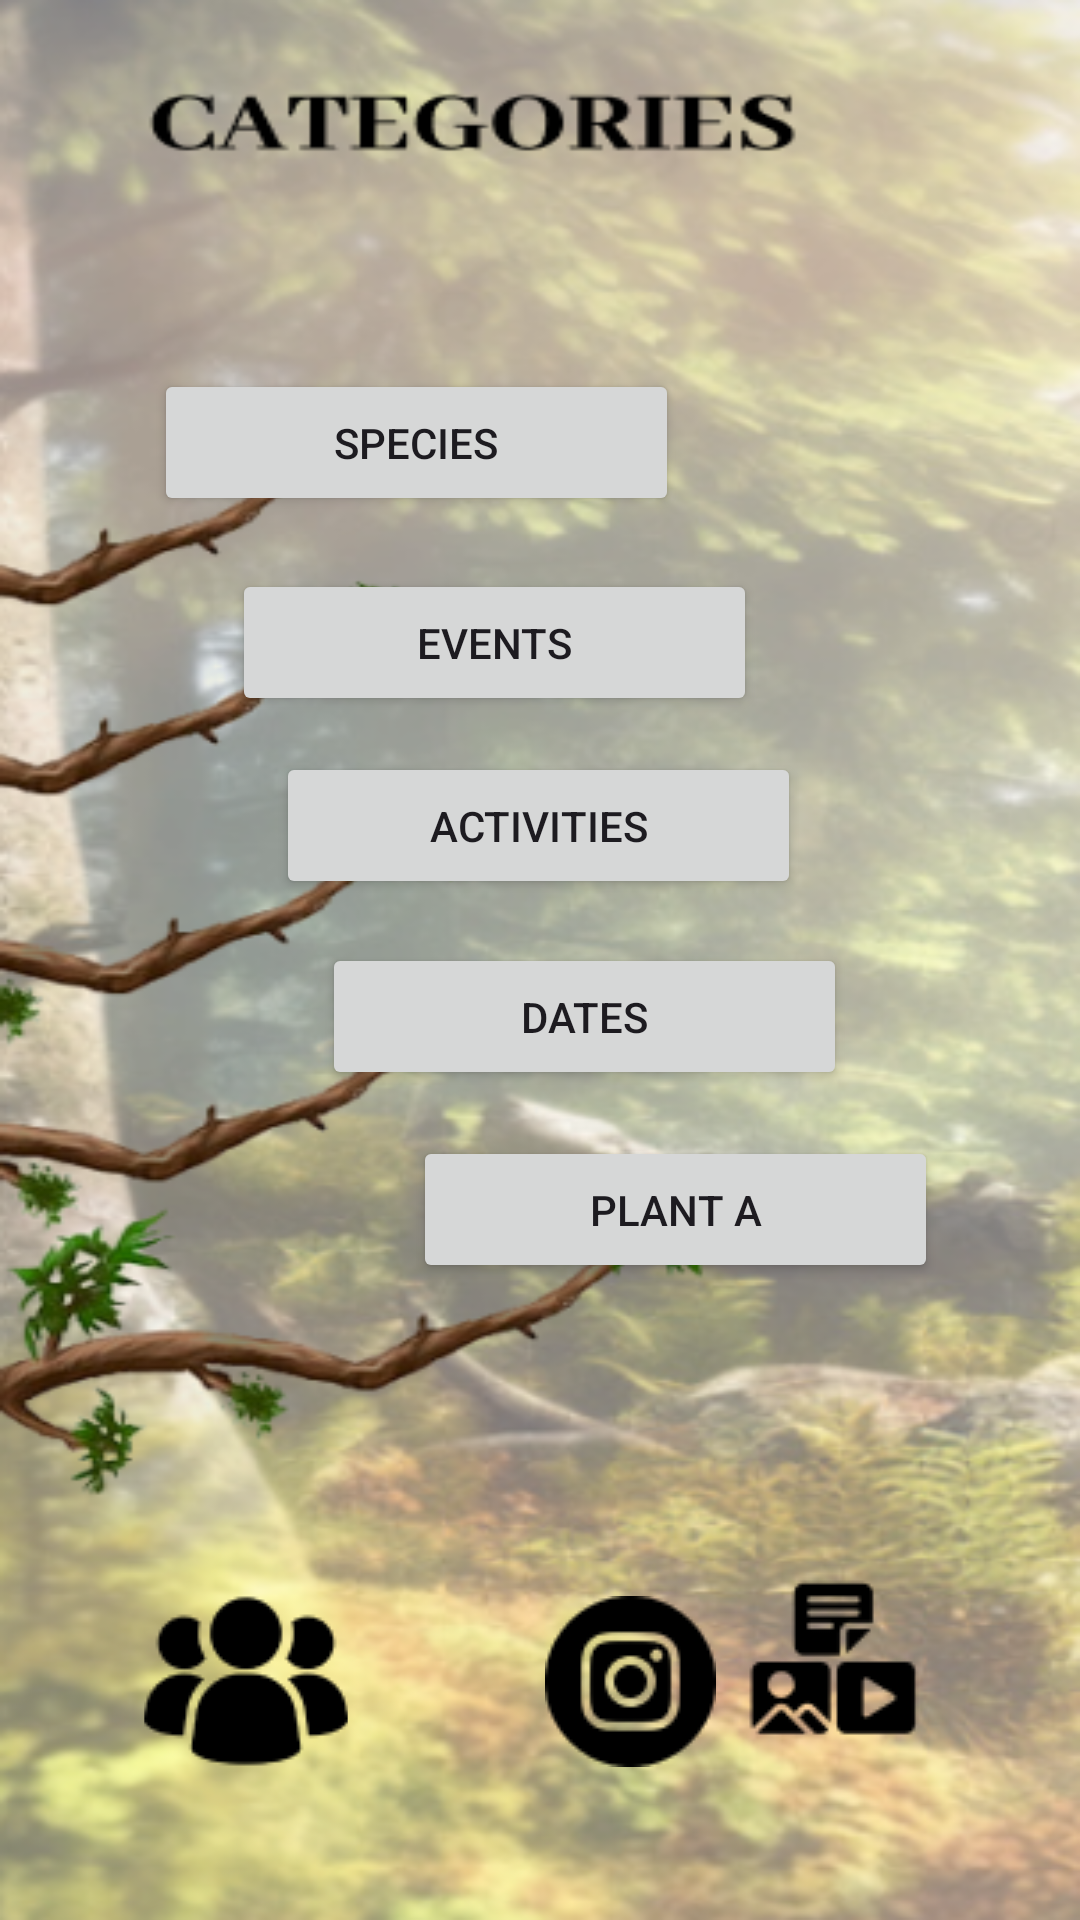

Icon bounding boxes for this 1080px x 1920px phone screenshot, format (x1, y1, x2, y2):
comunity: (144, 1579, 348, 1780)
